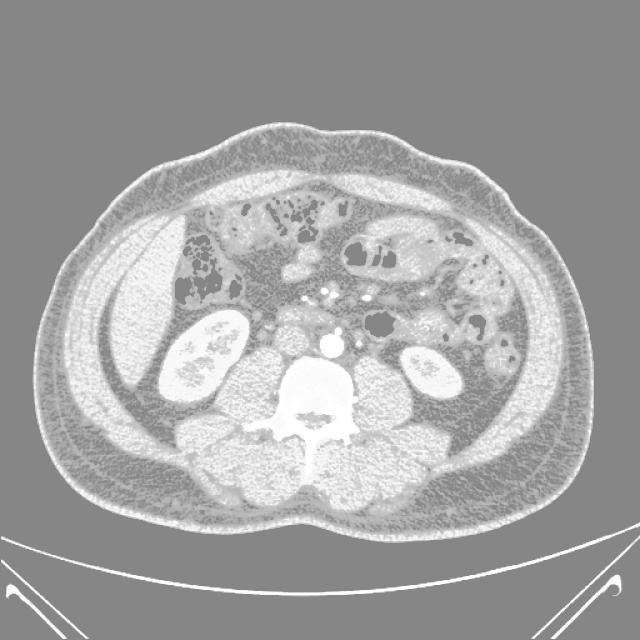NORMAL: (25, 115, 610, 540)
